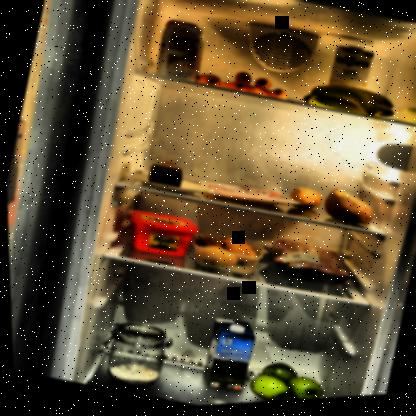apple: (242, 356, 327, 404)
banana: (300, 79, 399, 131)
butter: (117, 206, 200, 268)
carrot: (194, 59, 296, 111)
cheese: (142, 155, 187, 194)
chicken: (253, 231, 358, 300)
milk: (193, 314, 260, 399), (322, 43, 378, 116)
potato: (180, 226, 263, 280)
sweet_potato: (318, 186, 378, 235), (283, 187, 323, 218)
